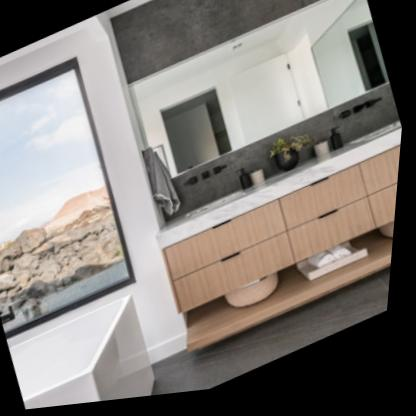Cabinet: (158, 139, 405, 326)
